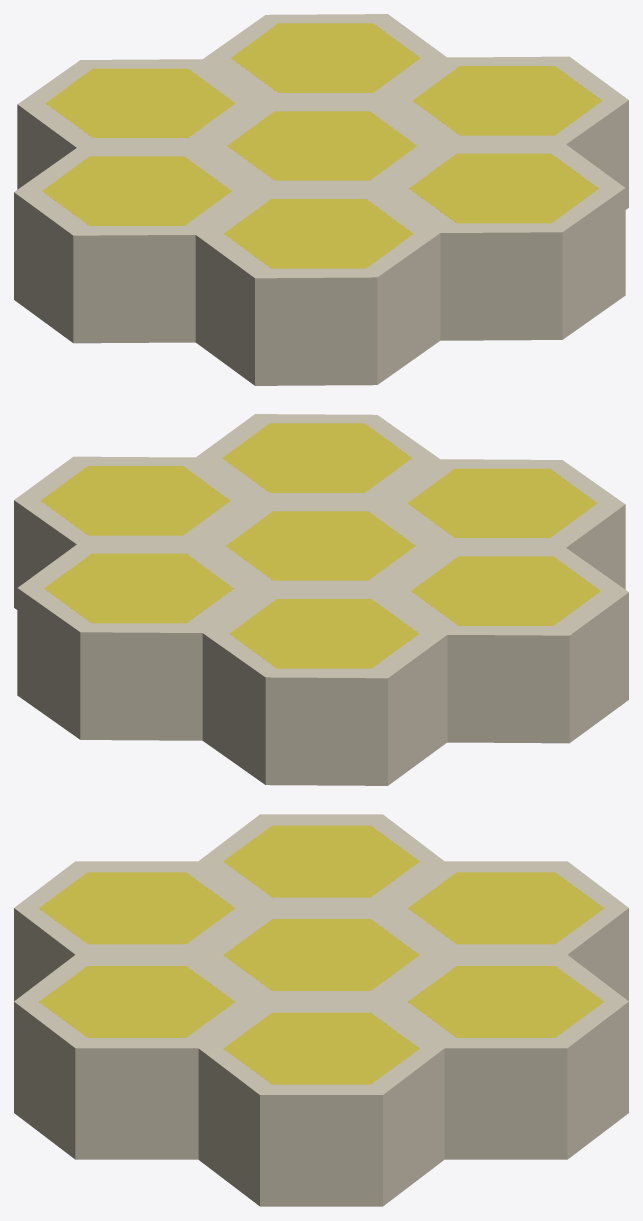
The model's file is hexagon.glb.
3 views of the same model, one above another, from view 1: azimuth 30°, elevation 25°; view 2: azimuth 150°, elevation 25°; view 3: azimuth 270°, elevation 25° (orthographic). The views are drawn at different scales.
Parts seen in each view (by area): view 1: Mesh_Mesh_head_geo.001_lambert2SG.001; view 2: Mesh_Mesh_head_geo.001_lambert2SG.001; view 3: Mesh_Mesh_head_geo.001_lambert2SG.001.
Boxes of the visible parts, x1,y1,x2,y2 form: Mesh_Mesh_head_geo.001_lambert2SG.001: (14, 14, 628, 385); Mesh_Mesh_head_geo.001_lambert2SG.001: (14, 414, 628, 785); Mesh_Mesh_head_geo.001_lambert2SG.001: (14, 814, 628, 1206).
Bounding box in the file's own units: 54 × 10 × 50.
